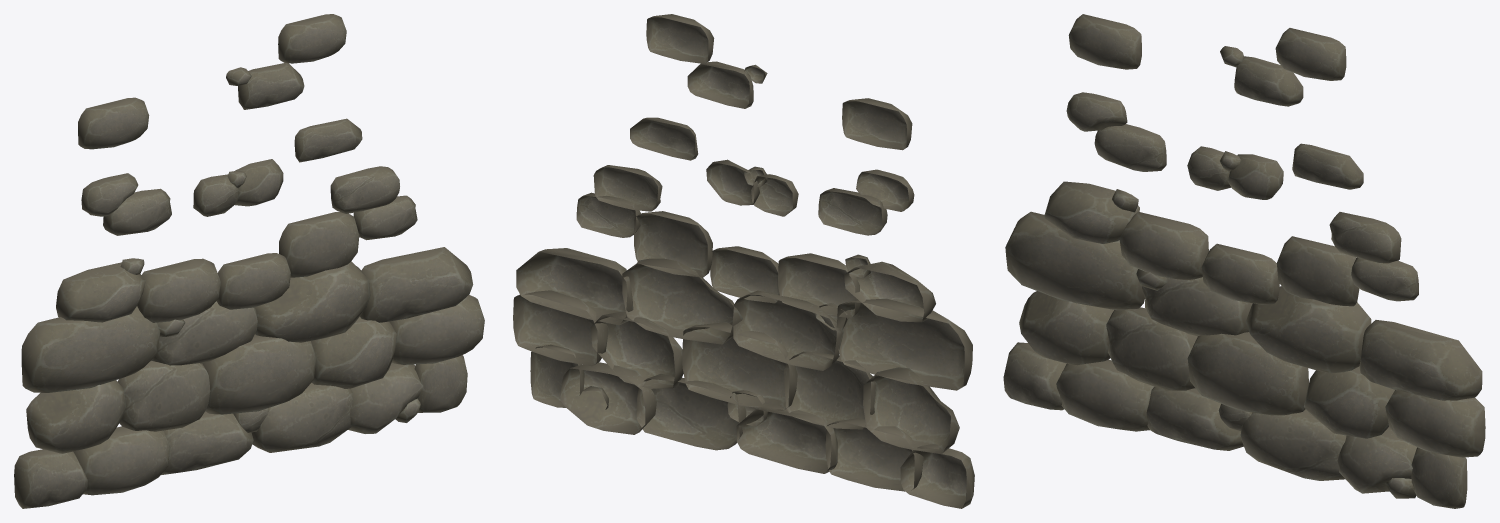
The model's file is MSH_fwOF_Ruins_Wall_Bricks_01.fbx.
The picture shows the model from 3 angles, left to right: view 1: azimuth 30°, elevation 25°; view 2: azimuth 150°, elevation 25°; view 3: azimuth 330°, elevation 25°; orthographic projection. The views are drawn at different scales.
Parts seen in each view (by area): view 1: MSH_fwOF_Ruins_Wall_Bricks_01; view 2: MSH_fwOF_Ruins_Wall_Bricks_01; view 3: MSH_fwOF_Ruins_Wall_Bricks_01.
Boxes of the visible parts, x1,y1,x2,y2 form: MSH_fwOF_Ruins_Wall_Bricks_01: (14,14,484,508); MSH_fwOF_Ruins_Wall_Bricks_01: (513,14,974,508); MSH_fwOF_Ruins_Wall_Bricks_01: (1003,14,1485,508).
Bounding box in the file's own units: 4.2 × 3.71 × 0.3695.
